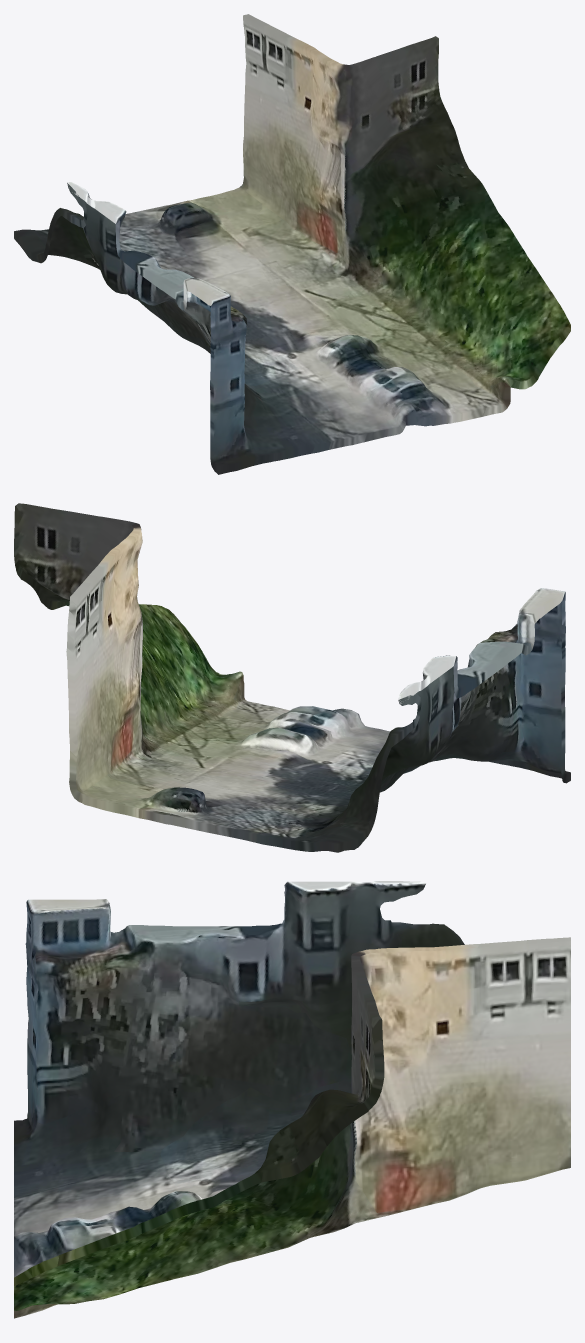
The model's file is z20-167721-405195-h0-yup-uvflip-v3-world.glb.
The picture shows the model from 3 angles, top to bottom: view 1: azimuth 30°, elevation 25°; view 2: azimuth 150°, elevation 25°; view 3: azimuth 270°, elevation 25°; orthographic projection. The views are drawn at different scales.
Size of the model in its own units: 30.16 by 21.32 by 30.32.
1 material, 1 textured.
